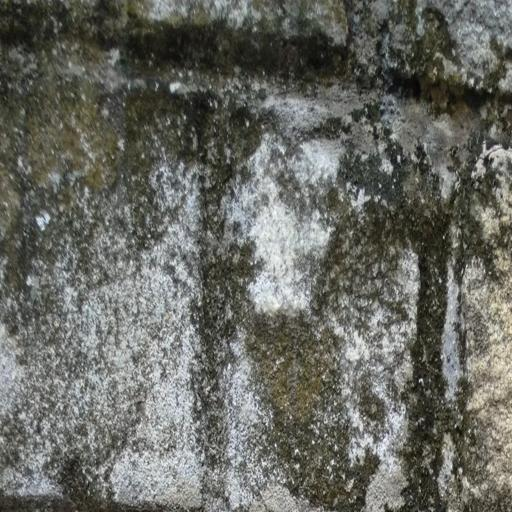algae: (0, 0, 487, 411)
